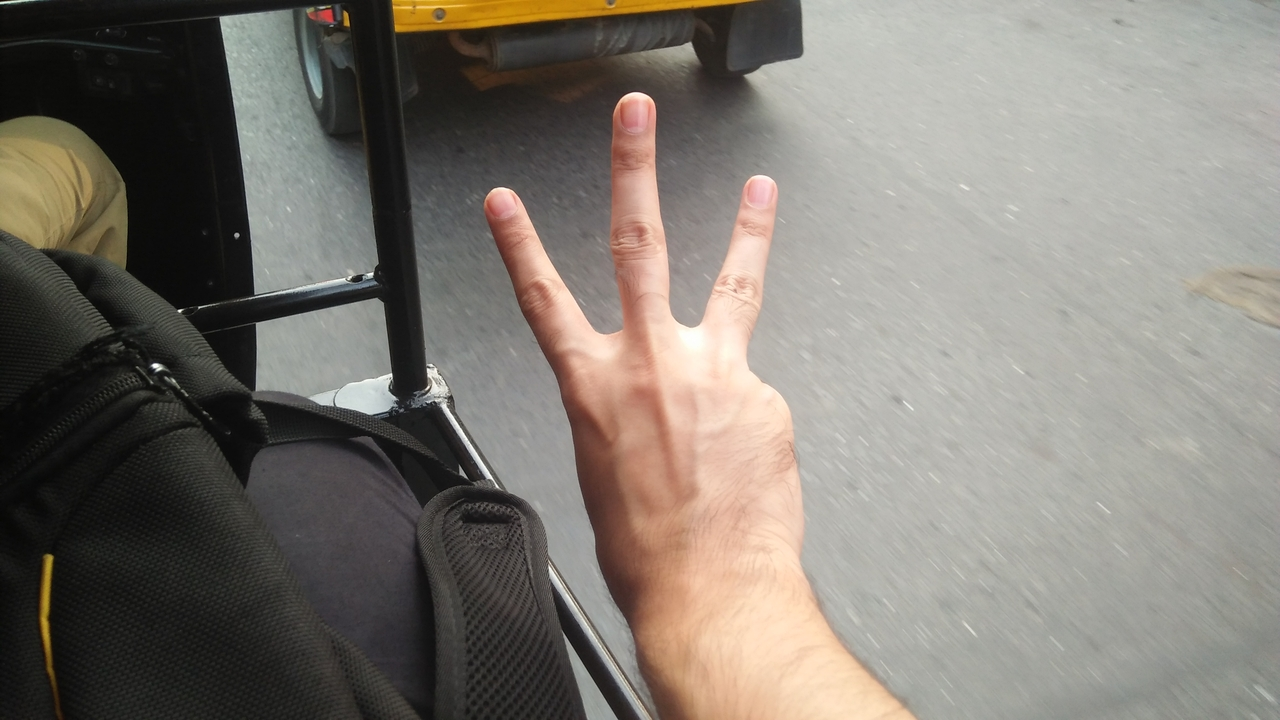fingertip: (604, 82, 662, 140), (474, 176, 530, 232), (730, 160, 788, 214)
